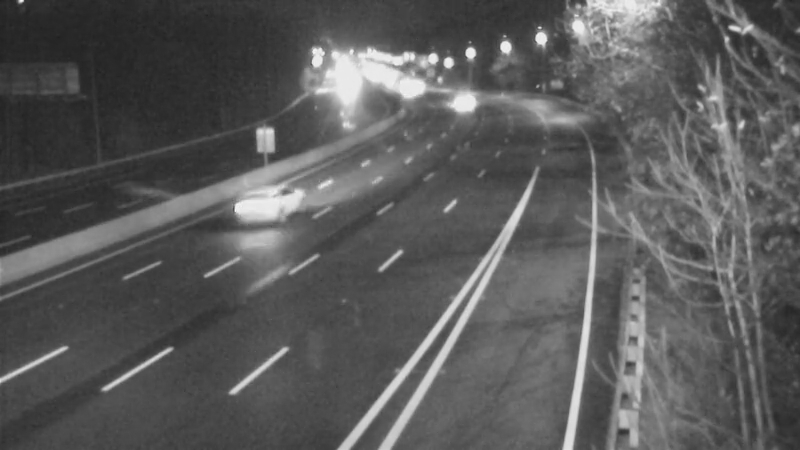vehicle: (219, 168, 299, 248), (442, 77, 492, 127)
